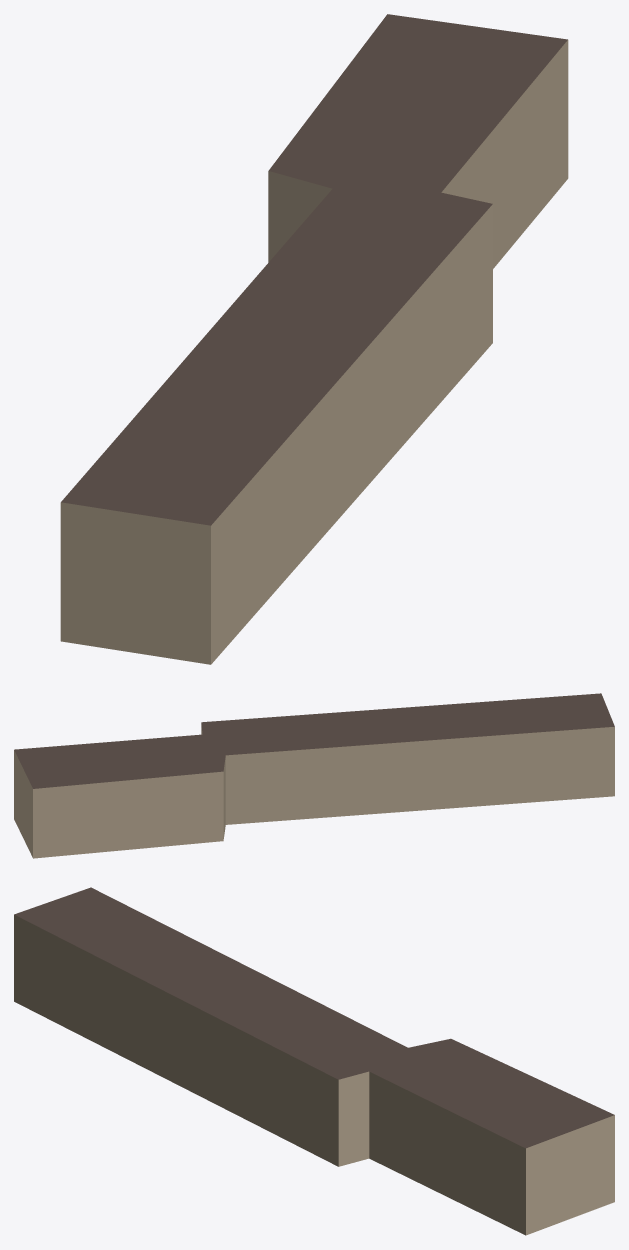
3 renders of one model, top to bottom at view 1: azimuth 30°, elevation 25°; view 2: azimuth 150°, elevation 25°; view 3: azimuth 270°, elevation 25°, orthographic. The views are drawn at different scales.
Visible parts, largest first — view 1: HP-w1515076933; view 2: HP-w1515076933; view 3: HP-w1515076933.
Part boxes in pixels (box(x1,y1,x2,y2)): HP-w1515076933: box(60, 14, 568, 664); HP-w1515076933: box(14, 693, 614, 858); HP-w1515076933: box(14, 887, 614, 1235).
Size of the model in its own units: 57.85 by 9 by 56.28.
